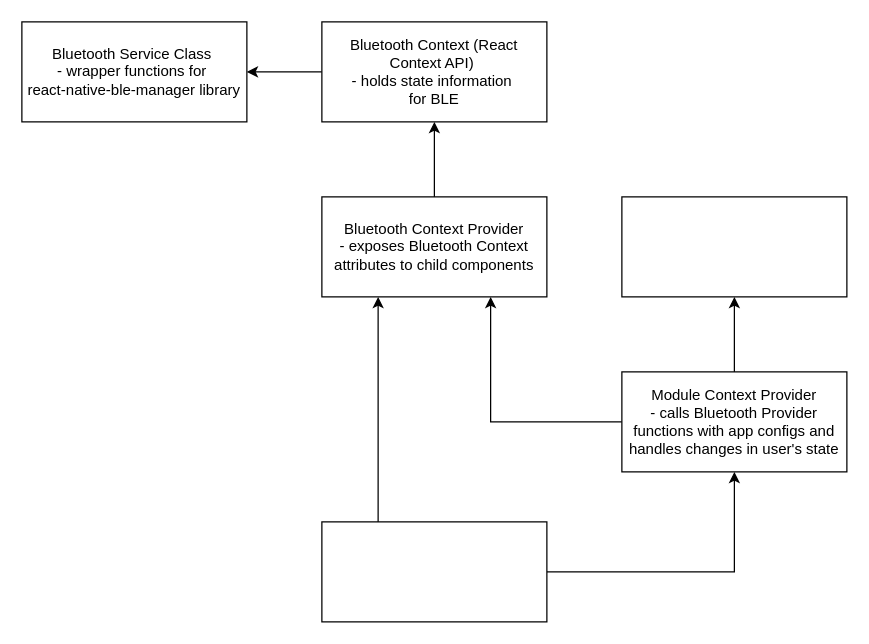
This 869x644 diagram has some shape labels left out. Each missing label, with the box of its shape:
Module Context (React Context API) - holds app configuration info: (621, 196, 847, 297)
User Interface Components and Pages: (321, 521, 547, 622)
